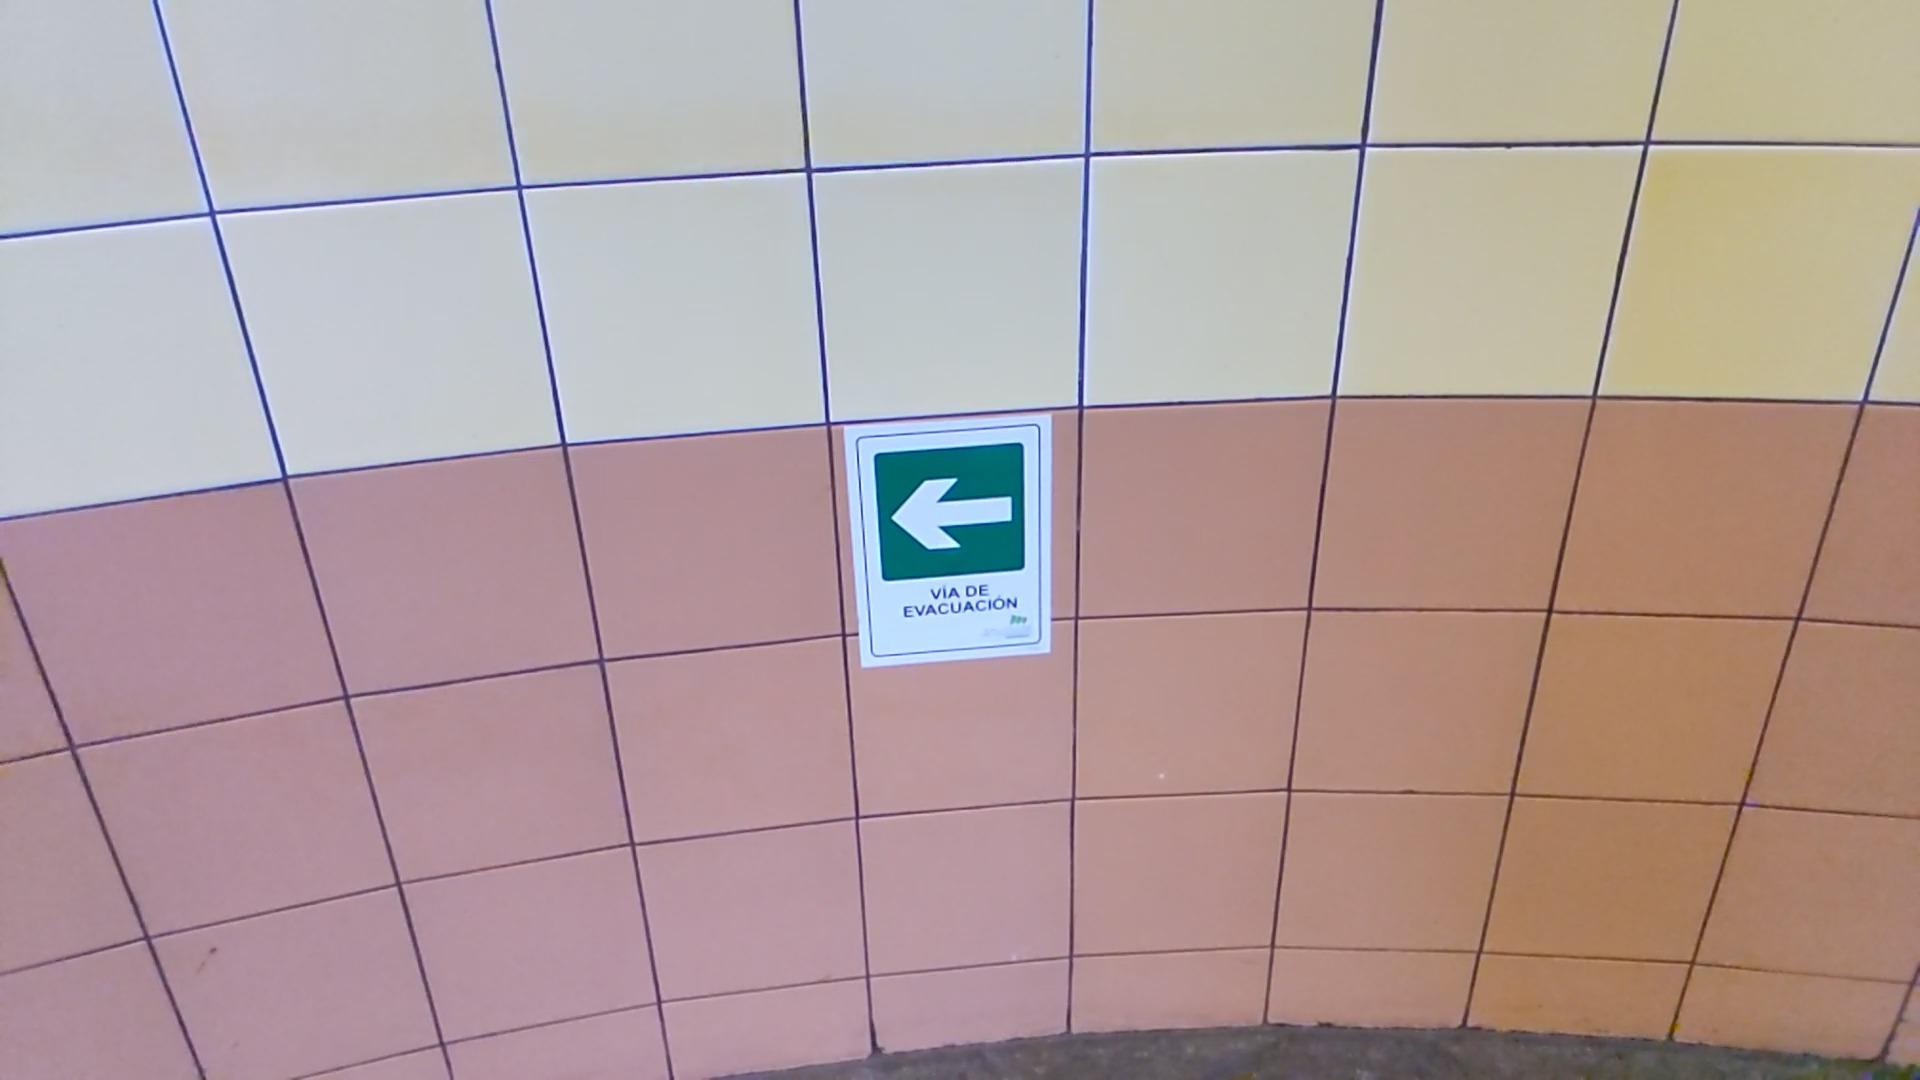emergency left arrow: (886, 476, 1018, 551)
